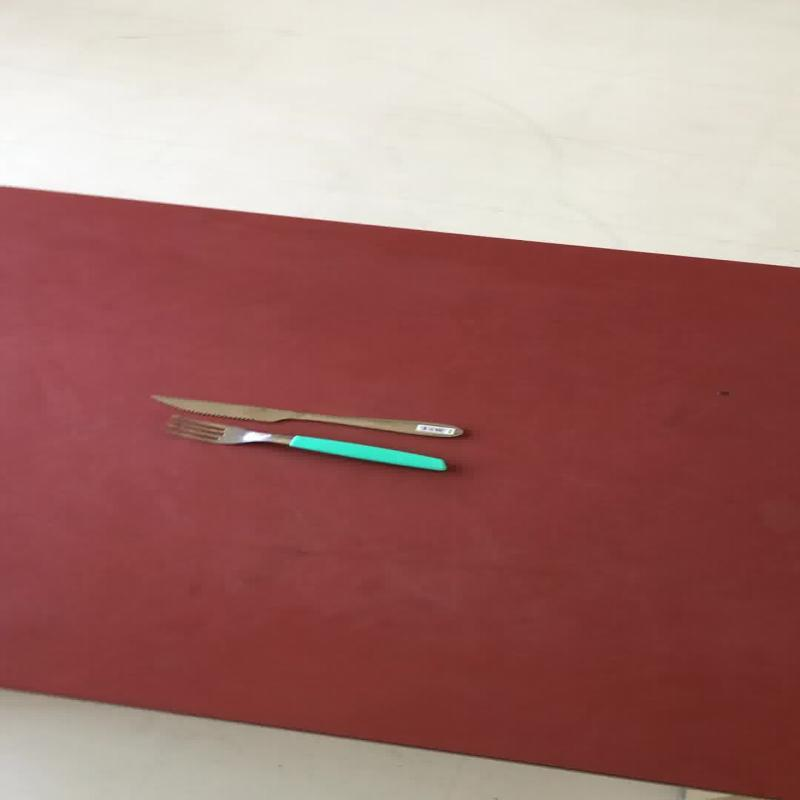fork: (162, 414, 447, 472)
knife: (148, 392, 464, 439)
